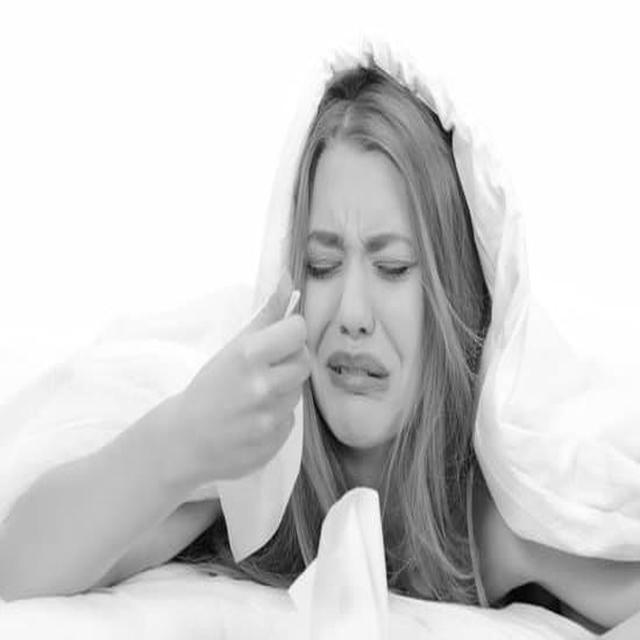Sadness: (305, 150, 427, 449)
